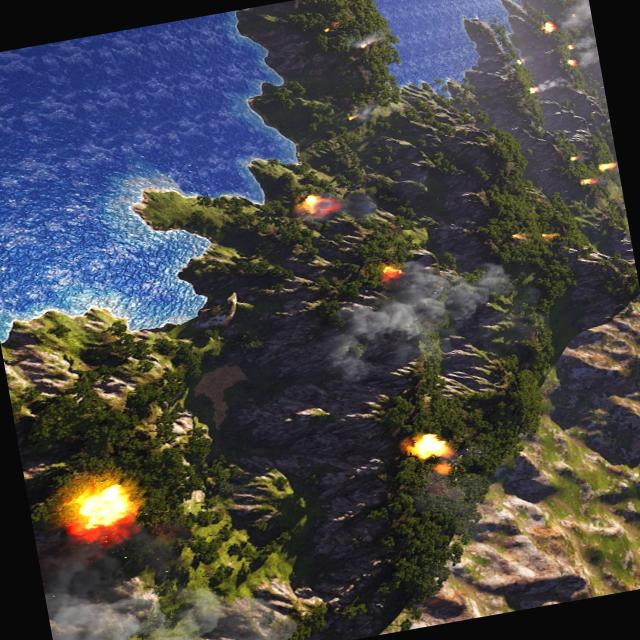fire: (76, 482, 132, 530), (412, 431, 448, 460), (374, 263, 402, 283), (302, 194, 321, 216), (597, 161, 618, 170), (542, 22, 556, 34), (578, 176, 595, 185), (512, 56, 526, 66), (538, 233, 552, 241), (344, 113, 356, 121), (528, 86, 538, 95), (564, 43, 574, 51), (566, 59, 576, 66), (321, 27, 331, 34), (510, 233, 521, 239), (357, 42, 367, 48), (569, 12, 576, 18), (568, 156, 576, 160)
smoke: (302, 240, 548, 388), (33, 505, 228, 640), (412, 447, 488, 530), (292, 186, 375, 225), (552, 0, 593, 31), (343, 31, 385, 52), (572, 49, 600, 69), (352, 105, 374, 123), (536, 77, 560, 93), (574, 35, 596, 50), (590, 176, 610, 188)
